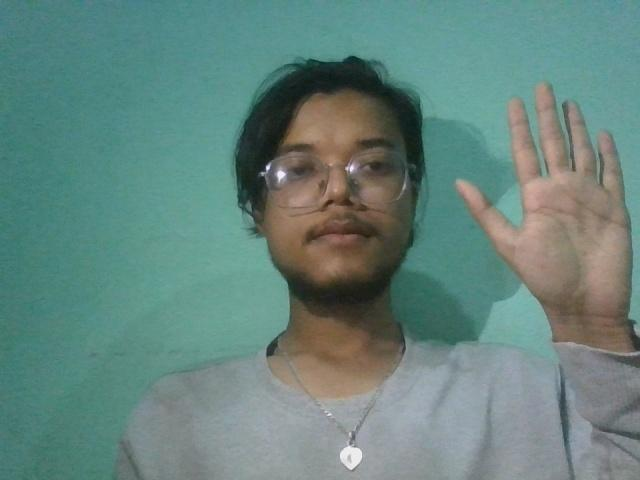hello: (445, 70, 639, 397)
